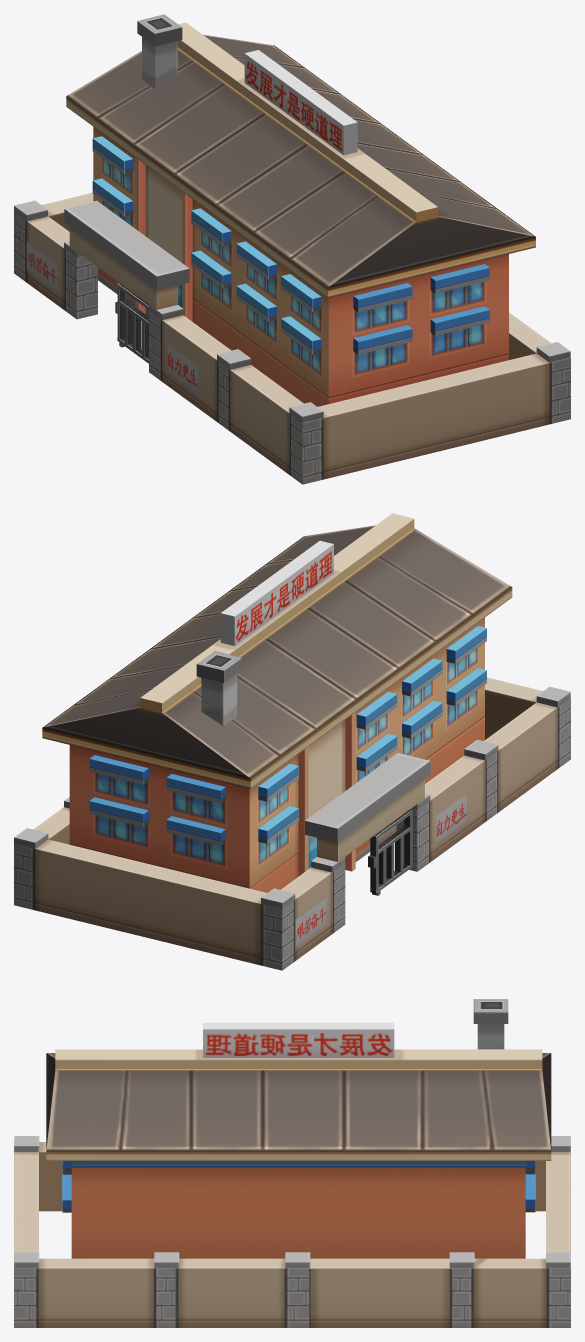
File: gongchang.FBX
The picture shows the model from 3 angles, top to bottom: view 1: azimuth 30°, elevation 25°; view 2: azimuth 150°, elevation 25°; view 3: azimuth 270°, elevation 25°; orthographic projection. The views are drawn at different scales.
Parts seen in each view (by area): view 1: gongchang; view 2: gongchang; view 3: gongchang.
Boxes of the visible parts, x1,y1,x2,y2 form: gongchang: (14,14,570,484); gongchang: (14,513,570,970); gongchang: (14,999,570,1327).
Bounding box in the file's own units: 988 × 885 × 1822.
1 material, 1 textured.
